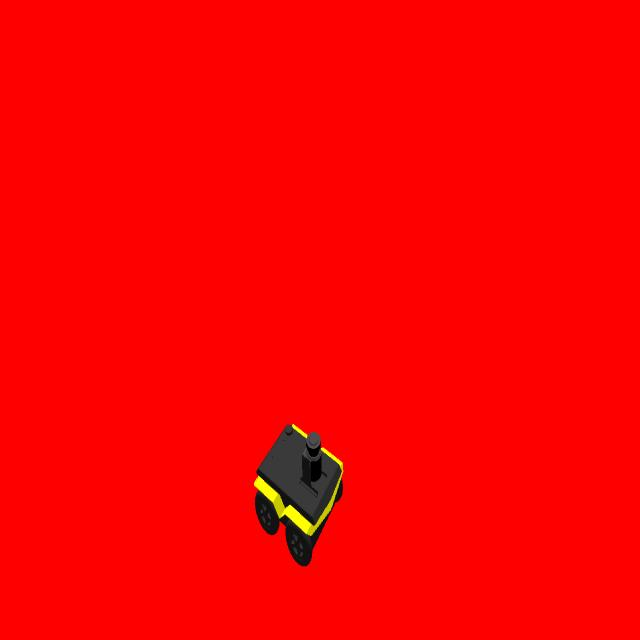jackal: (254, 419, 344, 568)
